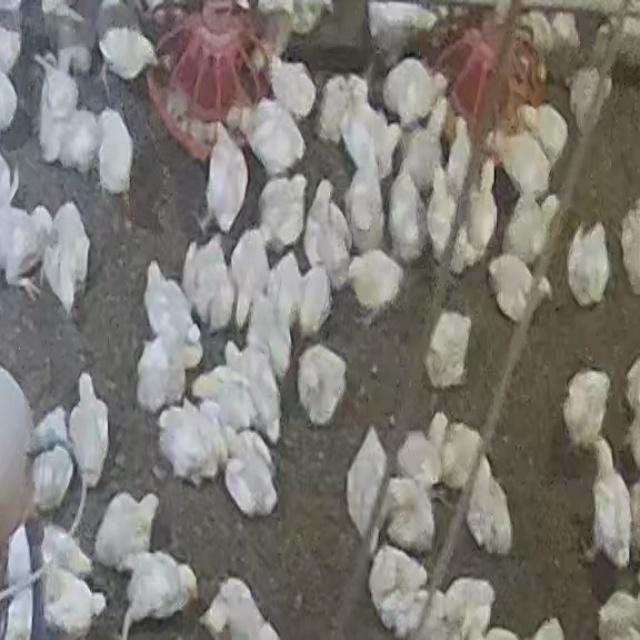chicken: (212, 337, 283, 447), (116, 548, 195, 640), (154, 399, 228, 487), (368, 544, 434, 640), (140, 259, 200, 364), (496, 182, 562, 276), (91, 488, 161, 574), (42, 200, 92, 320), (588, 439, 632, 569), (302, 180, 352, 293), (182, 234, 236, 337), (199, 576, 282, 640), (463, 457, 515, 559), (345, 425, 389, 544), (28, 405, 76, 514), (221, 429, 279, 519), (68, 372, 110, 494), (245, 97, 306, 180), (484, 254, 553, 327), (456, 162, 500, 274), (424, 574, 498, 640), (205, 122, 248, 234), (364, 1, 440, 64), (397, 97, 454, 180), (40, 564, 105, 636), (346, 247, 406, 324), (498, 125, 554, 207), (381, 474, 438, 554), (134, 334, 188, 418), (380, 55, 439, 130), (561, 370, 612, 456), (296, 343, 348, 427), (246, 285, 294, 376), (387, 162, 428, 264), (256, 172, 306, 253), (342, 72, 389, 158), (0, 211, 50, 290), (434, 417, 485, 494), (36, 54, 72, 163), (424, 164, 460, 268), (394, 425, 444, 499), (229, 228, 266, 328), (96, 106, 135, 200), (566, 224, 609, 308), (97, 25, 157, 83), (265, 57, 317, 123), (428, 310, 472, 386), (34, 525, 93, 577), (296, 260, 334, 340), (567, 66, 607, 139), (530, 102, 570, 173), (267, 255, 305, 327), (442, 117, 475, 189), (314, 74, 349, 141), (618, 197, 640, 297), (596, 591, 640, 640), (68, 111, 98, 174)
